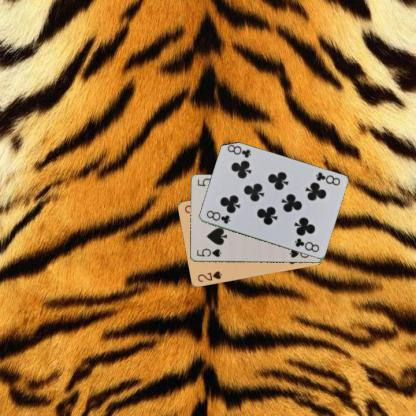2s: (195, 268, 223, 284)
5s: (194, 246, 223, 258)
8c: (203, 208, 231, 225), (312, 170, 341, 186)
